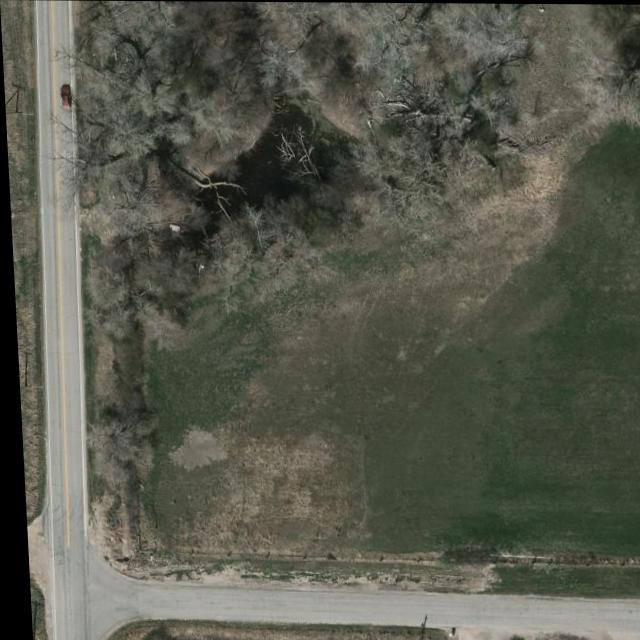vehicle: (59, 84, 73, 109)
